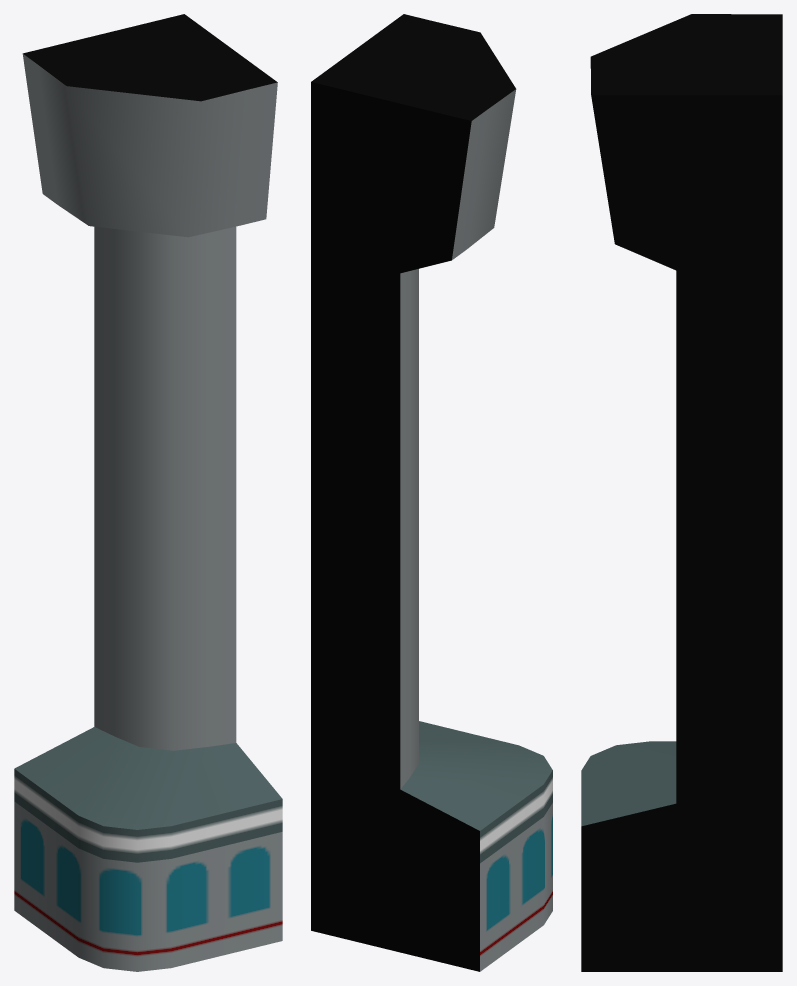
The model's file is P1_Corner2.fbx.
The picture shows the model from 3 angles, left to right: view 1: azimuth 30°, elevation 25°; view 2: azimuth 150°, elevation 25°; view 3: azimuth 270°, elevation 25°; orthographic projection. The views are drawn at different scales.
Visible parts, largest first — view 1: Cube.011; view 2: Cube.011; view 3: Cube.011.
Part boxes in pixels (bbox=[...]): Cube.011: bbox=[14, 14, 282, 971]; Cube.011: bbox=[311, 14, 552, 971]; Cube.011: bbox=[581, 14, 782, 971].
Bounding box in the file's own units: 83.32 × 83.32 × 400.
